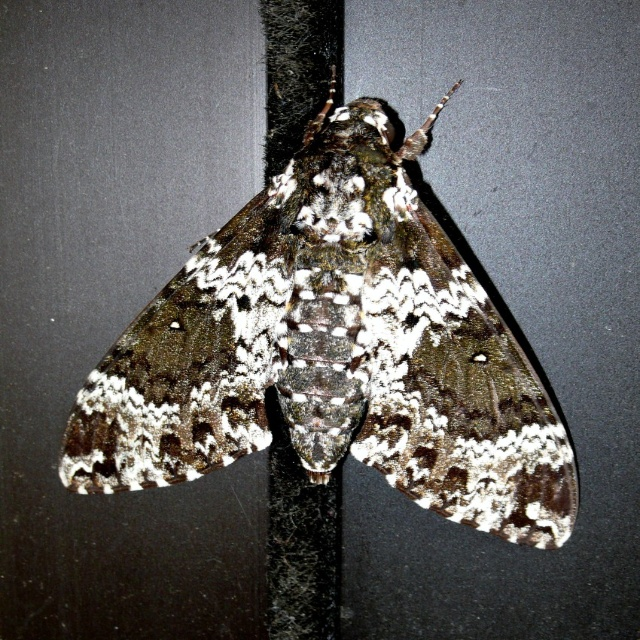Moths and butterflies: (53, 66, 584, 551)
